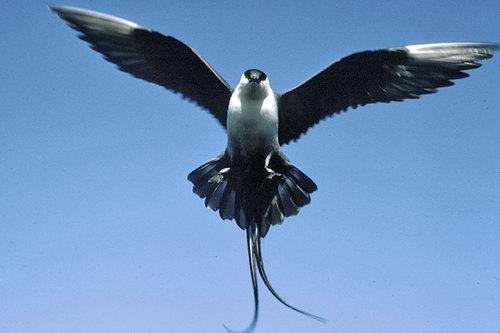bird: (44, 1, 495, 323)
